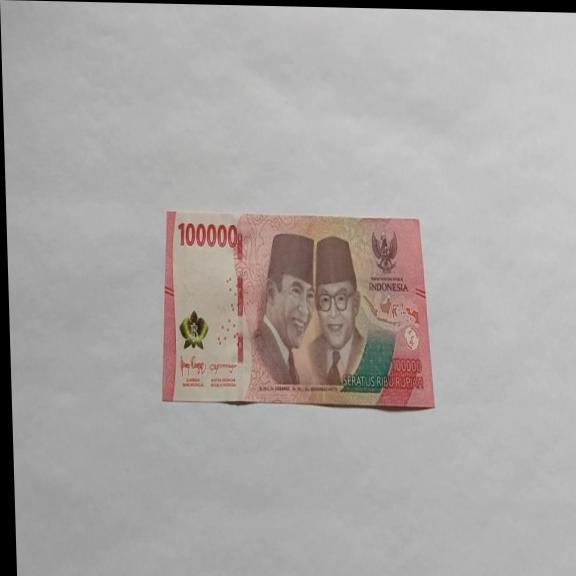Kertas: (156, 208, 436, 411), (177, 219, 238, 250)
